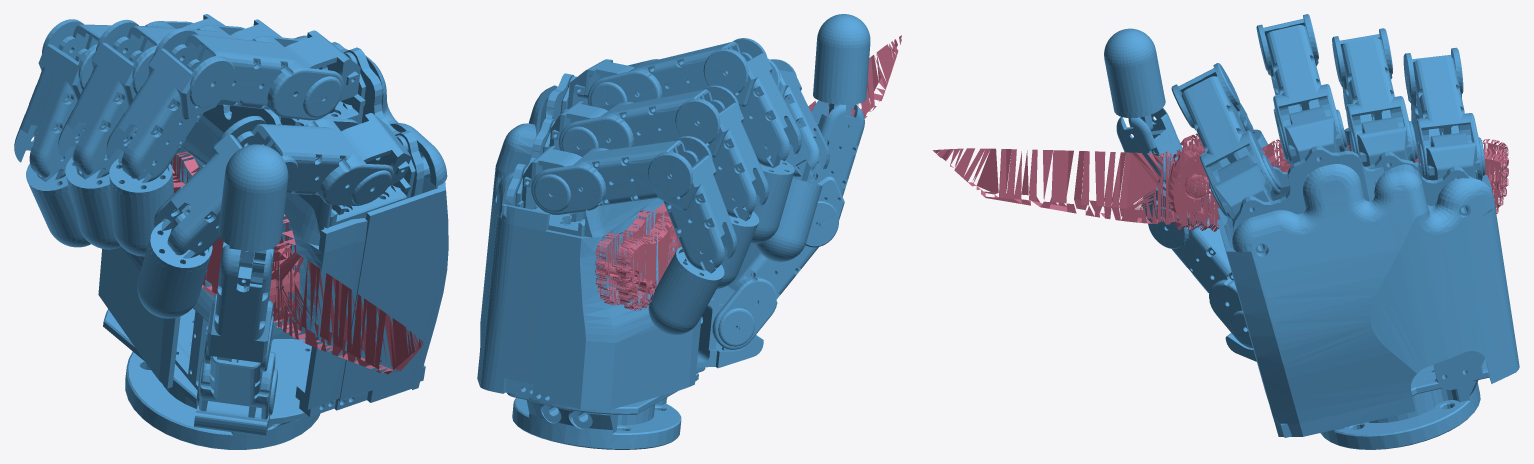
The picture shows the model from 3 angles, left to right: view 1: azimuth 30°, elevation 25°; view 2: azimuth 150°, elevation 25°; view 3: azimuth 270°, elevation 25°; orthographic projection. The views are drawn at different scales.
Visible parts, largest first — view 1: 0; view 2: 0; view 3: 0.
Part boxes in pixels (<box>): 0: <box>14,14,448,449</box>; 0: <box>477,14,901,449</box>; 0: <box>933,14,1519,449</box>.
Size of the model in its own units: 0.1192 by 0.1556 by 0.2239.
